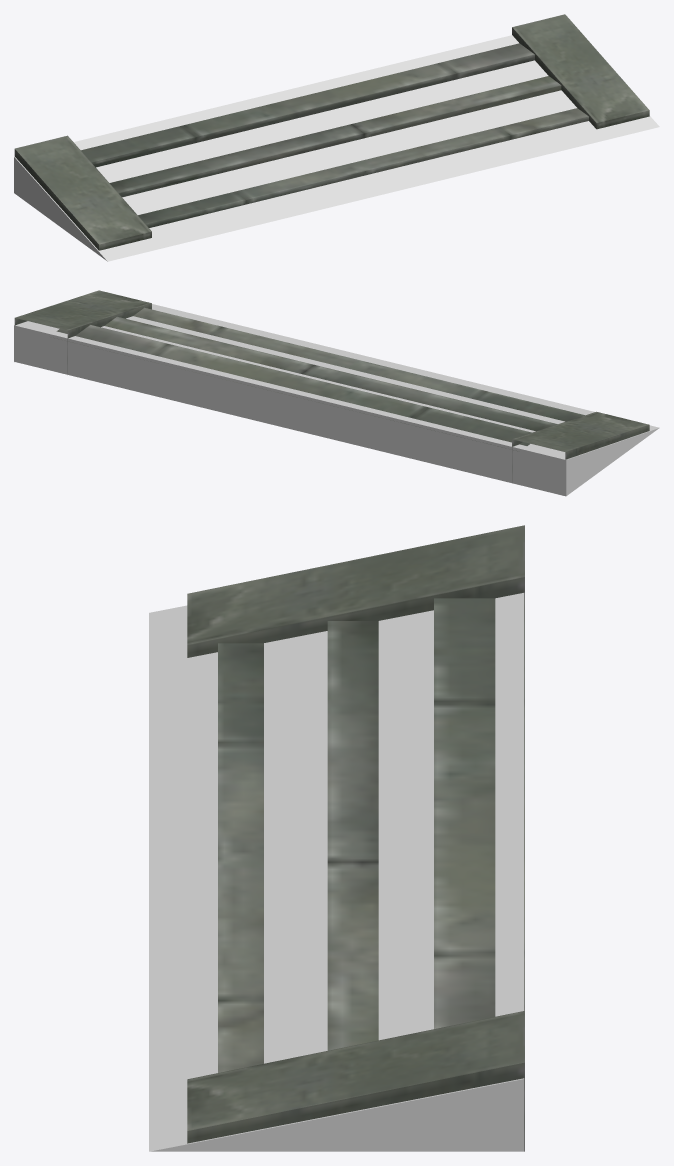
Rendered from YHJ_taijie.FBX.
3 renders of one model, top to bottom at view 1: azimuth 30°, elevation 25°; view 2: azimuth 150°, elevation 25°; view 3: azimuth 270°, elevation 25°, orthographic. The views are drawn at different scales.
Parts seen in each view (by area): view 1: YHJ_taijie, YHJ_taijie-col; view 2: YHJ_taijie-col, YHJ_taijie; view 3: YHJ_taijie, YHJ_taijie-col.
Part boxes in pixels (<box>): YHJ_taijie: <box>14,14,649,250</box>; YHJ_taijie-col: <box>14,35,659,261</box>; YHJ_taijie-col: <box>14,304,659,496</box>; YHJ_taijie: <box>14,290,649,483</box>; YHJ_taijie: <box>187,525,524,1151</box>; YHJ_taijie-col: <box>149,593,524,1151</box>.
Size of the model in its own units: 4.81 by 0.3721 by 1.42.
